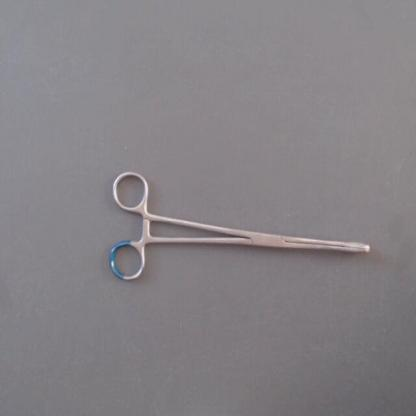Sponge Forceps: (104, 164, 378, 293)
